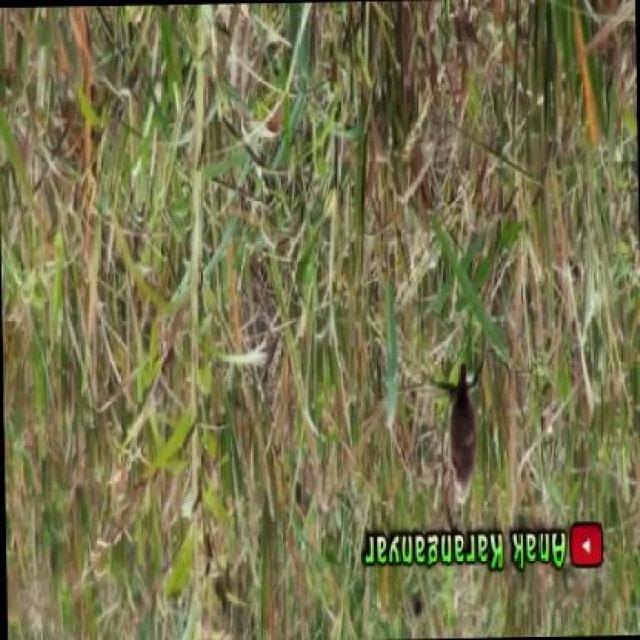Bird: (433, 367, 503, 522)
